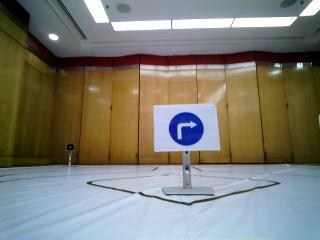right: (156, 108, 216, 148)
